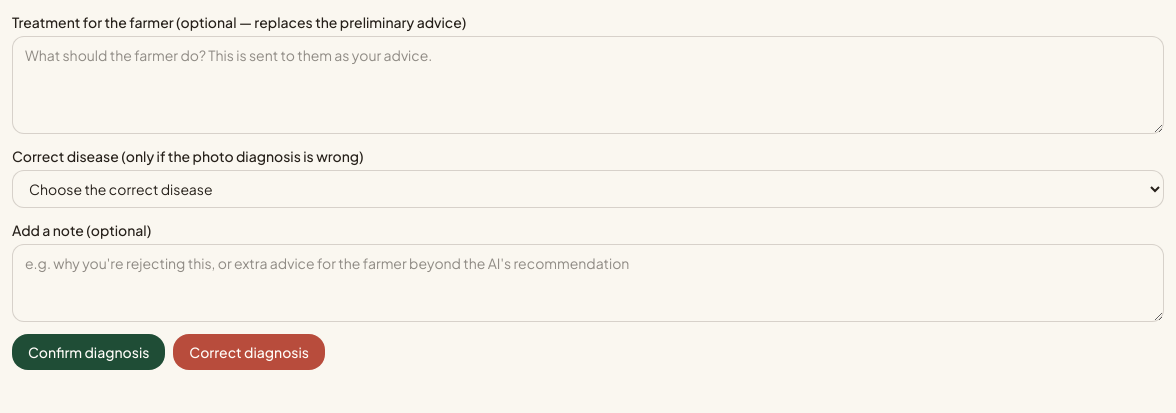
ApproveRejectControls › points to Correct diagnosis when a different disease is chosen before confirming
This screenshot has width=1176, height=413.
Select "Cassava brown streak disease" in the dropdown labelled "Correct disease (only if the photo diagnosis is wrong)" at (588, 189), box [12, 170, 1164, 208]
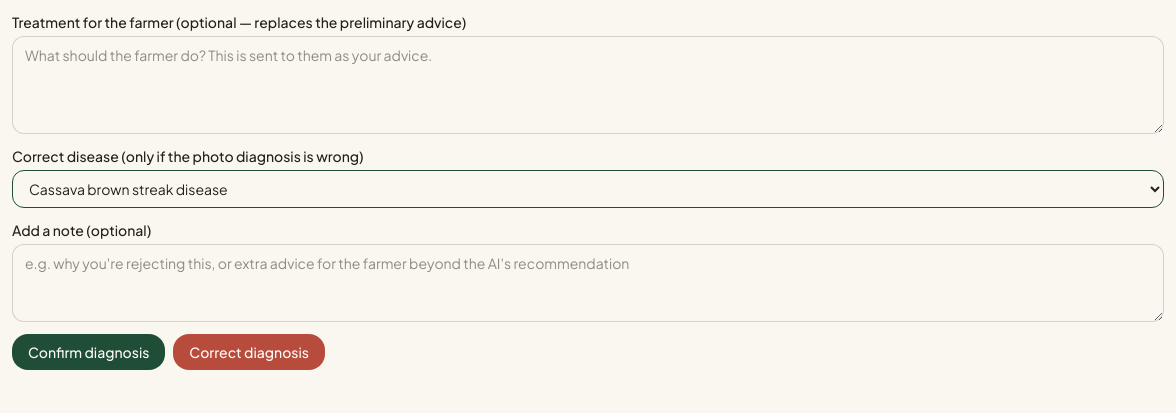
Click the button "Confirm diagnosis" at (89, 352), box [12, 334, 165, 370]
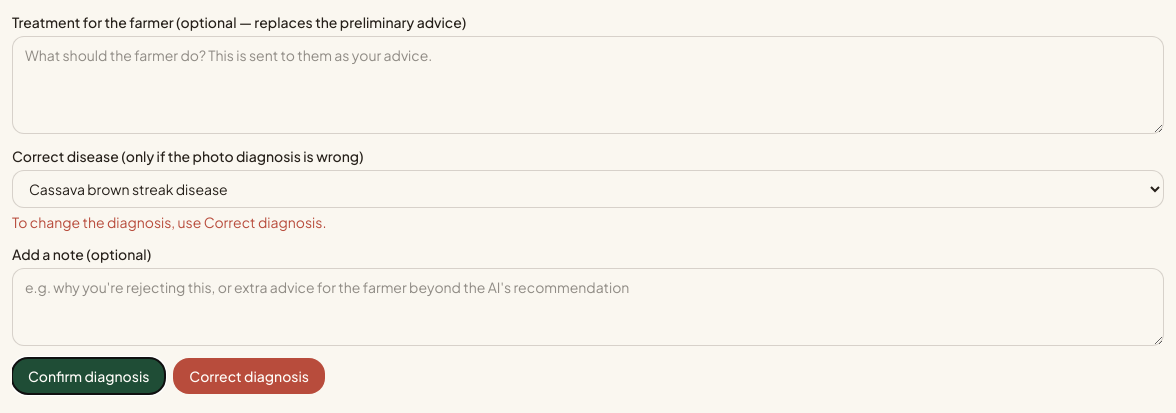
Check: the text "To change the diagnosis, use Correct diagnosis." is shown, box [12, 213, 326, 231]
